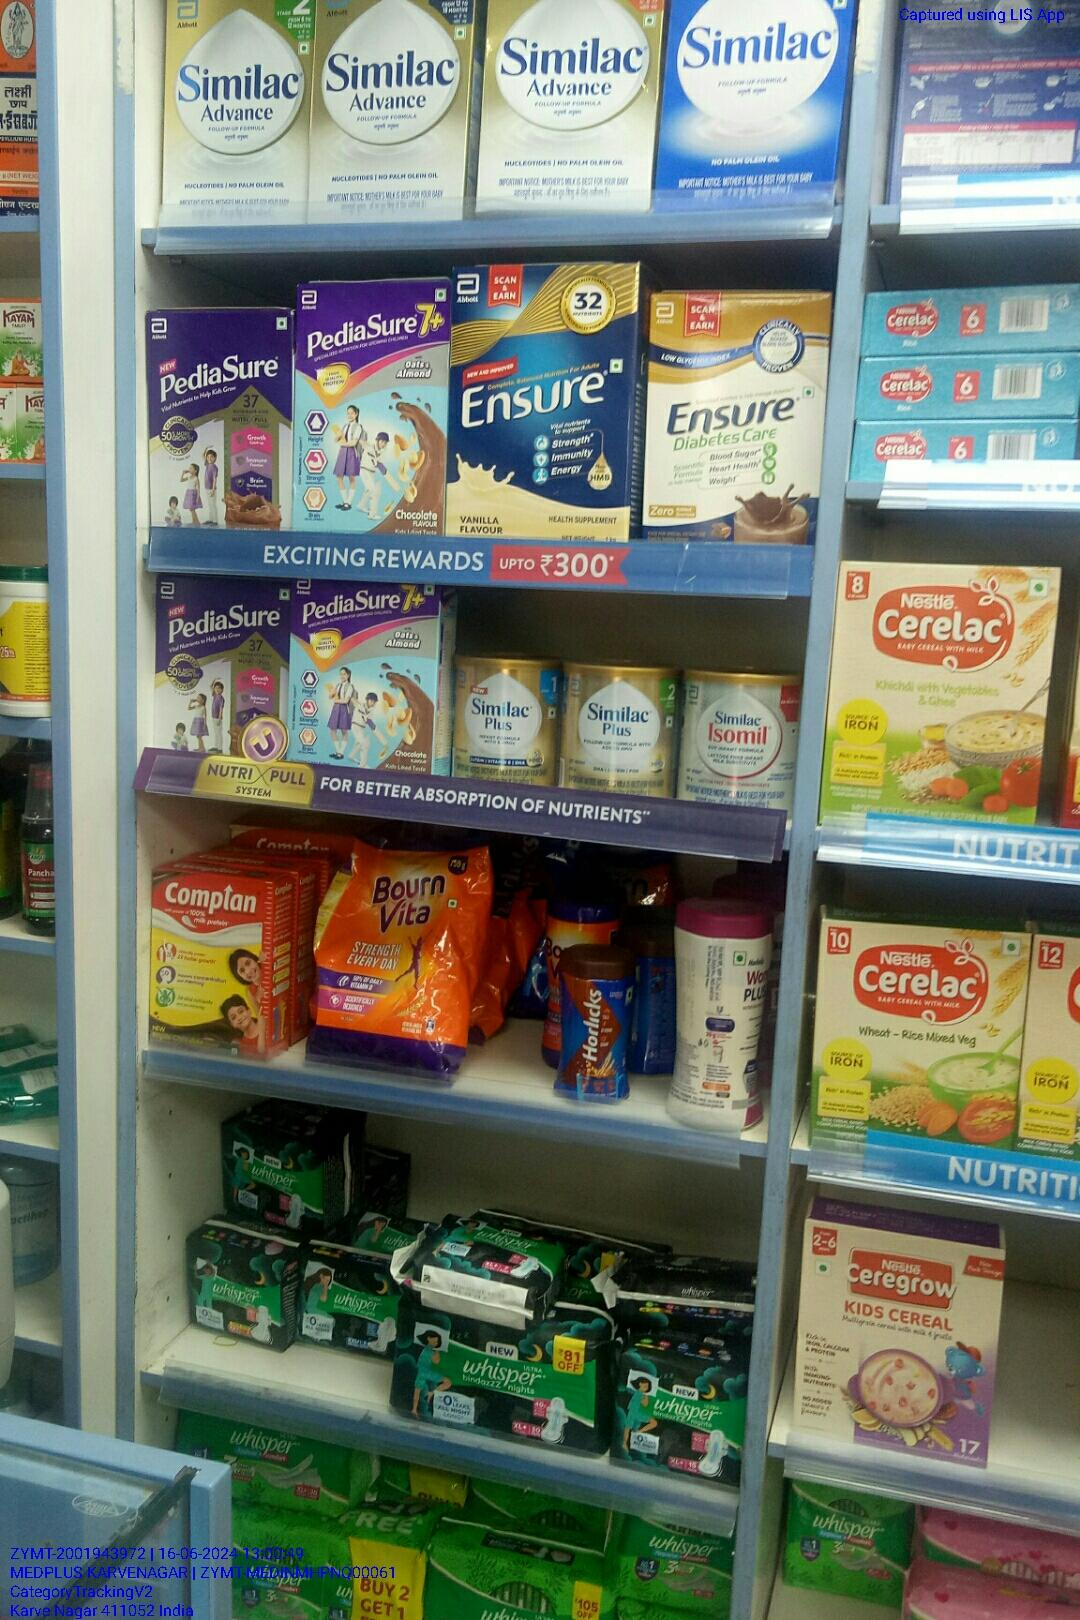BOURN_VITA_750_G_POUCH: (310, 828, 456, 1073)
COMPLAN_CHOCOLATE_200_GMS_PACK: (151, 862, 269, 1055)
ENSURE_VANILLA_400_G_PACK: (454, 268, 628, 544)
HORLICK_CHOCOLATE_200_G_JAR: (557, 951, 635, 1110)
PEDIASURE_7_PLUS_CHOCOLATE_400_G_PACK: (299, 284, 444, 534), (290, 576, 435, 763)
PEDIASURE_CHOCOLATE_500_G_PACK: (149, 312, 288, 528)
